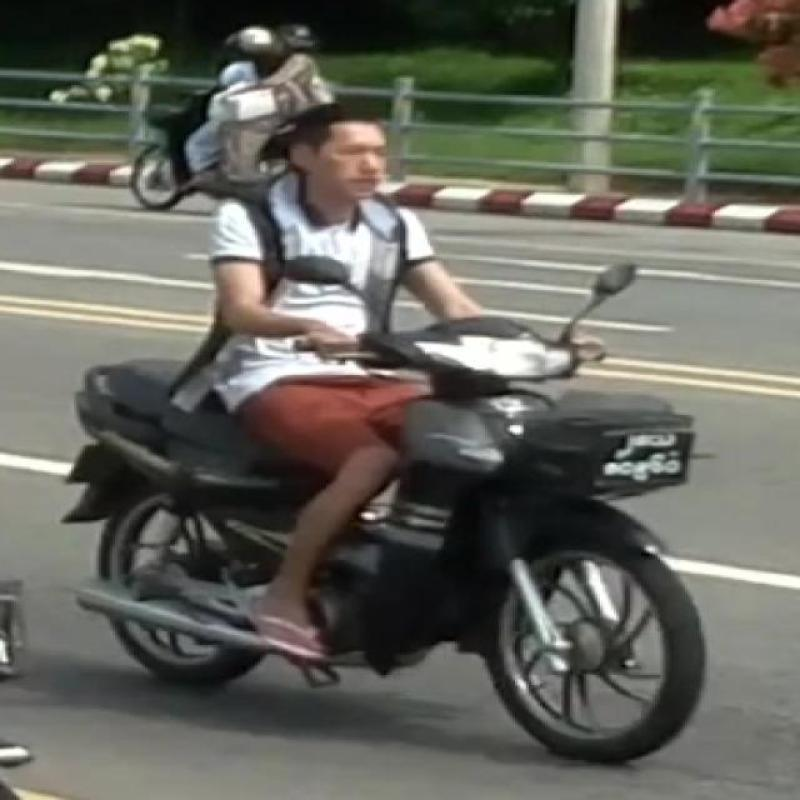nohelmet: (258, 78, 401, 201)
